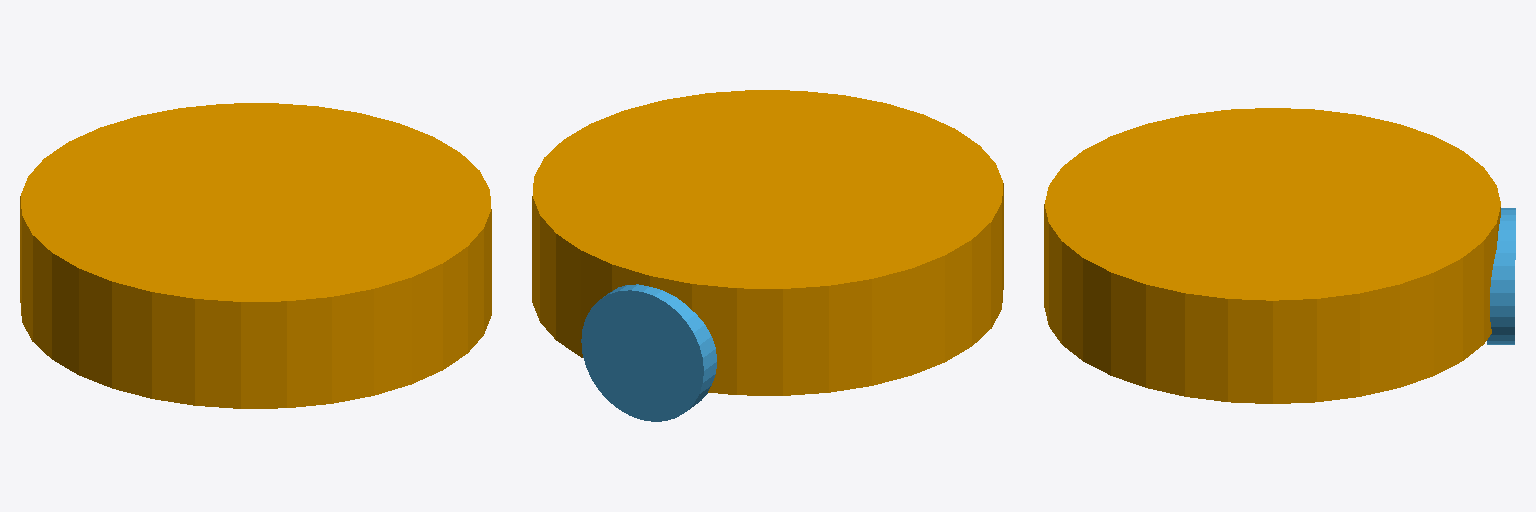
URDF robot description (example2):
<?xml version="1.0" ?>
<robot name="example2">
     <link name="base_link">
        <visual>
            <origin xyz="0 0 0.08" rpy="0 0 0"/>
            <geometry>
                <cylinder length="0.1" radius="0.20"/>
            </geometry>
        </visual>
        <collision>
            <origin xyz="0 0 0.08" rpy="0 0 0"/>
            <geometry>
                <cylinder length="0.1" radius="0.20"/>
            </geometry>
        </collision>
        <inertial>
            <mass value="20" />                                                                                                                                                      
            <inertia ixx="0.24" ixy = "0" ixz = "0"
                     iyy="0.24" iyz = "0"
                     izz="0.4" />
        </inertial>
    </link>

    <link name="left_wheel_link">
        <visual>
            <origin xyz="0 0 0" rpy="1.57 0 0"/>
            <geometry>
                <cylinder length="0.025" radius="0.06"/>
            </geometry>
        </visual>
        <collision>
            <origin xyz="0 0 0" rpy="1.57 0 0"/>
            <geometry>
                <cylinder length="0.025" radius="0.06"/>
            </geometry>
        </collision>
        <inertial>
            <mass value="5" />                                                                                                                                                      
            <inertia ixx="0.00228" ixy = "0" ixz = "0"
                     iyy="0.00228" iyz = "0"
                     izz="0.0015" />
        </inertial>
    </link>

    <joint name="base_right" type="continuous">
        <origin xyz="0 0.2 0.06" rpy="0 0 0" />
        <parent link="base_link" />
        <child link="left_wheel_link" />
        <axis xyz="0 1 0" />
    </joint>

</robot>

--- Facts derived from the render (not from the file) ---
Views: 3 orthographic renders of the robot side by side, from view 1: azimuth 30°, elevation 25°; view 2: azimuth 150°, elevation 25°; view 3: azimuth 270°, elevation 25°.
Robot: example2 — 2 links, 1 joints (1 continuous); root link base_link; default pose: all joints at 0.
Links seen in each view (by area): view 1: base_link; view 2: base_link, left_wheel_link; view 3: base_link, left_wheel_link.
Boxes of the visible links, x1=… form: base_link: x1=20, y1=103, x2=491, y2=408; base_link: x1=532, y1=90, x2=1003, y2=395; left_wheel_link: x1=581, y1=284, x2=716, y2=421; base_link: x1=1044, y1=108, x2=1500, y2=403; left_wheel_link: x1=1487, y1=208, x2=1515, y2=344.
Bounding box of the posed robot: 0.4 × 0.4125 × 0.13 m (x, y, z).
Geometry: primitives only (box / cylinder / sphere), no mesh files.